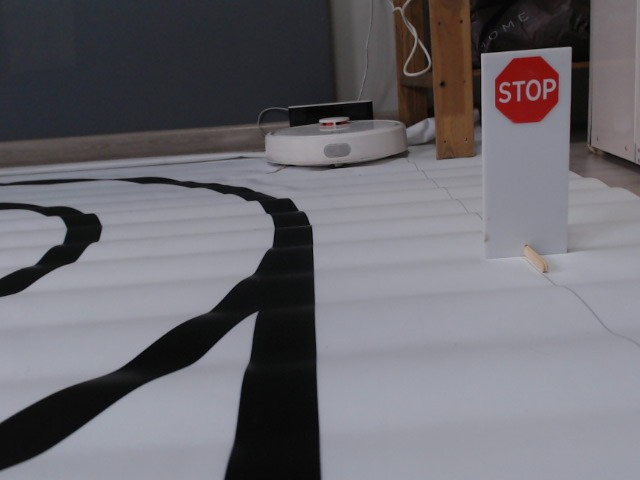Stop: (493, 55, 561, 127)
